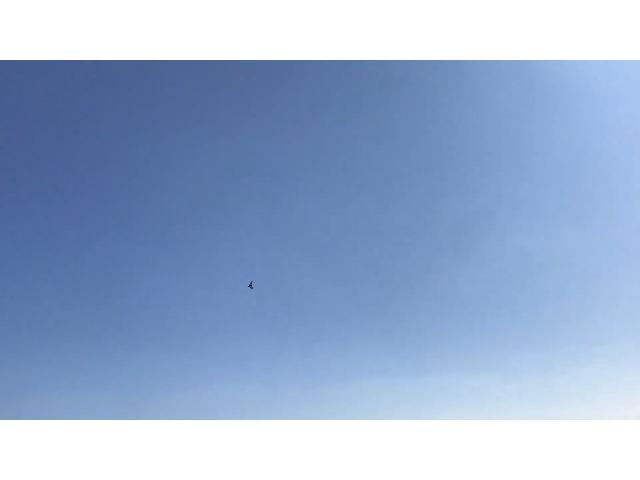Anti-Drone: (243, 274, 269, 290)
